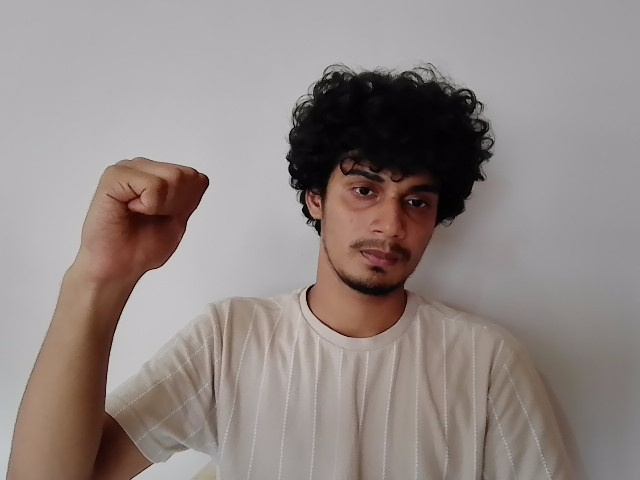how: (71, 156, 210, 284)
